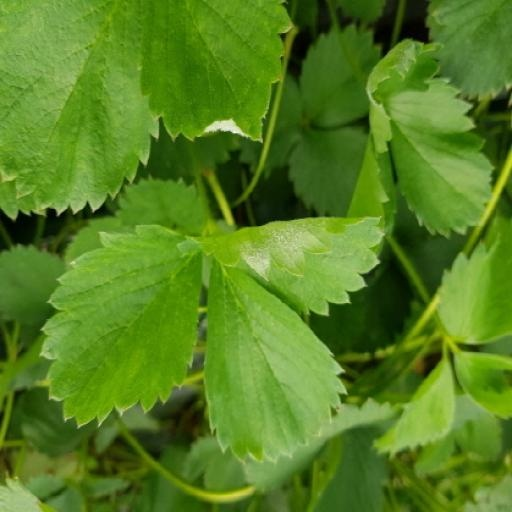Powdery Mildew Leaf: (175, 183, 387, 297), (139, 368, 294, 511), (366, 358, 446, 474)
